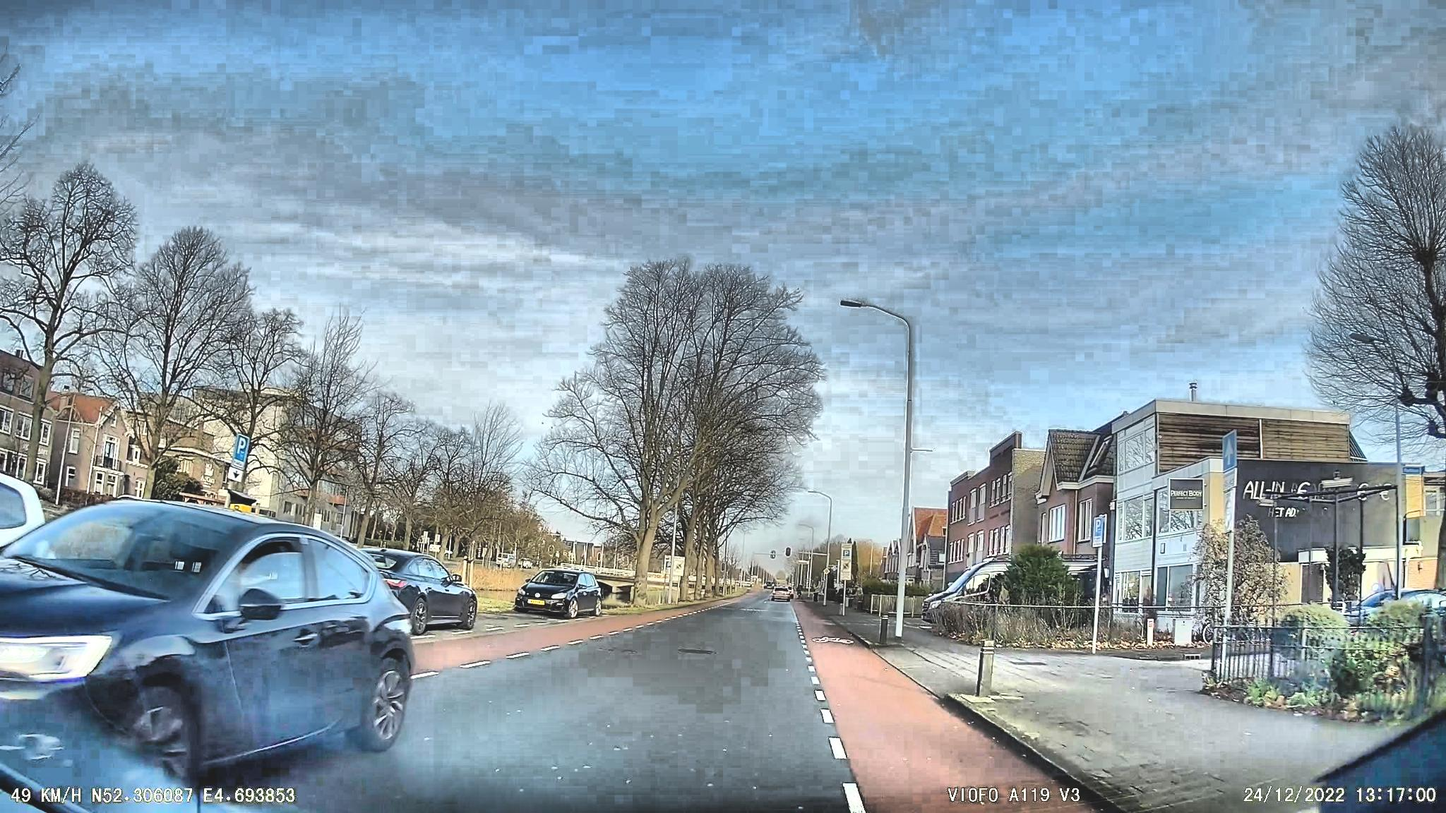Roads: (51, 598, 1023, 813)
